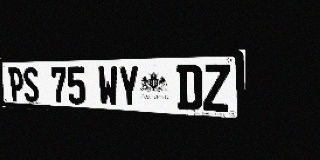5: (67, 66, 86, 105)
7: (50, 67, 68, 104)
D: (177, 64, 202, 111)
P: (8, 67, 25, 102)
S: (22, 67, 40, 102)
W: (97, 66, 119, 106)
Y: (118, 65, 140, 108)
Z: (203, 64, 230, 112)
